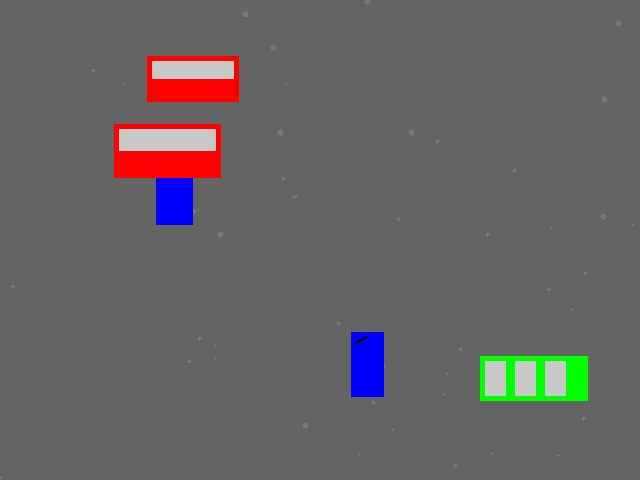bus: (480, 356, 587, 400)
car: (114, 124, 220, 177), (147, 56, 238, 101)
motorcycle: (156, 152, 192, 224), (351, 332, 383, 396)
